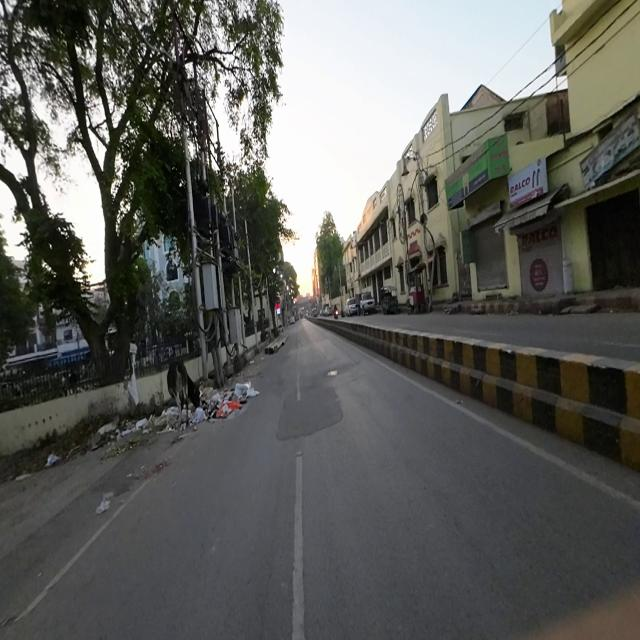Garbage: (200, 385, 240, 419), (136, 407, 179, 435), (114, 420, 136, 442), (239, 382, 258, 403)
